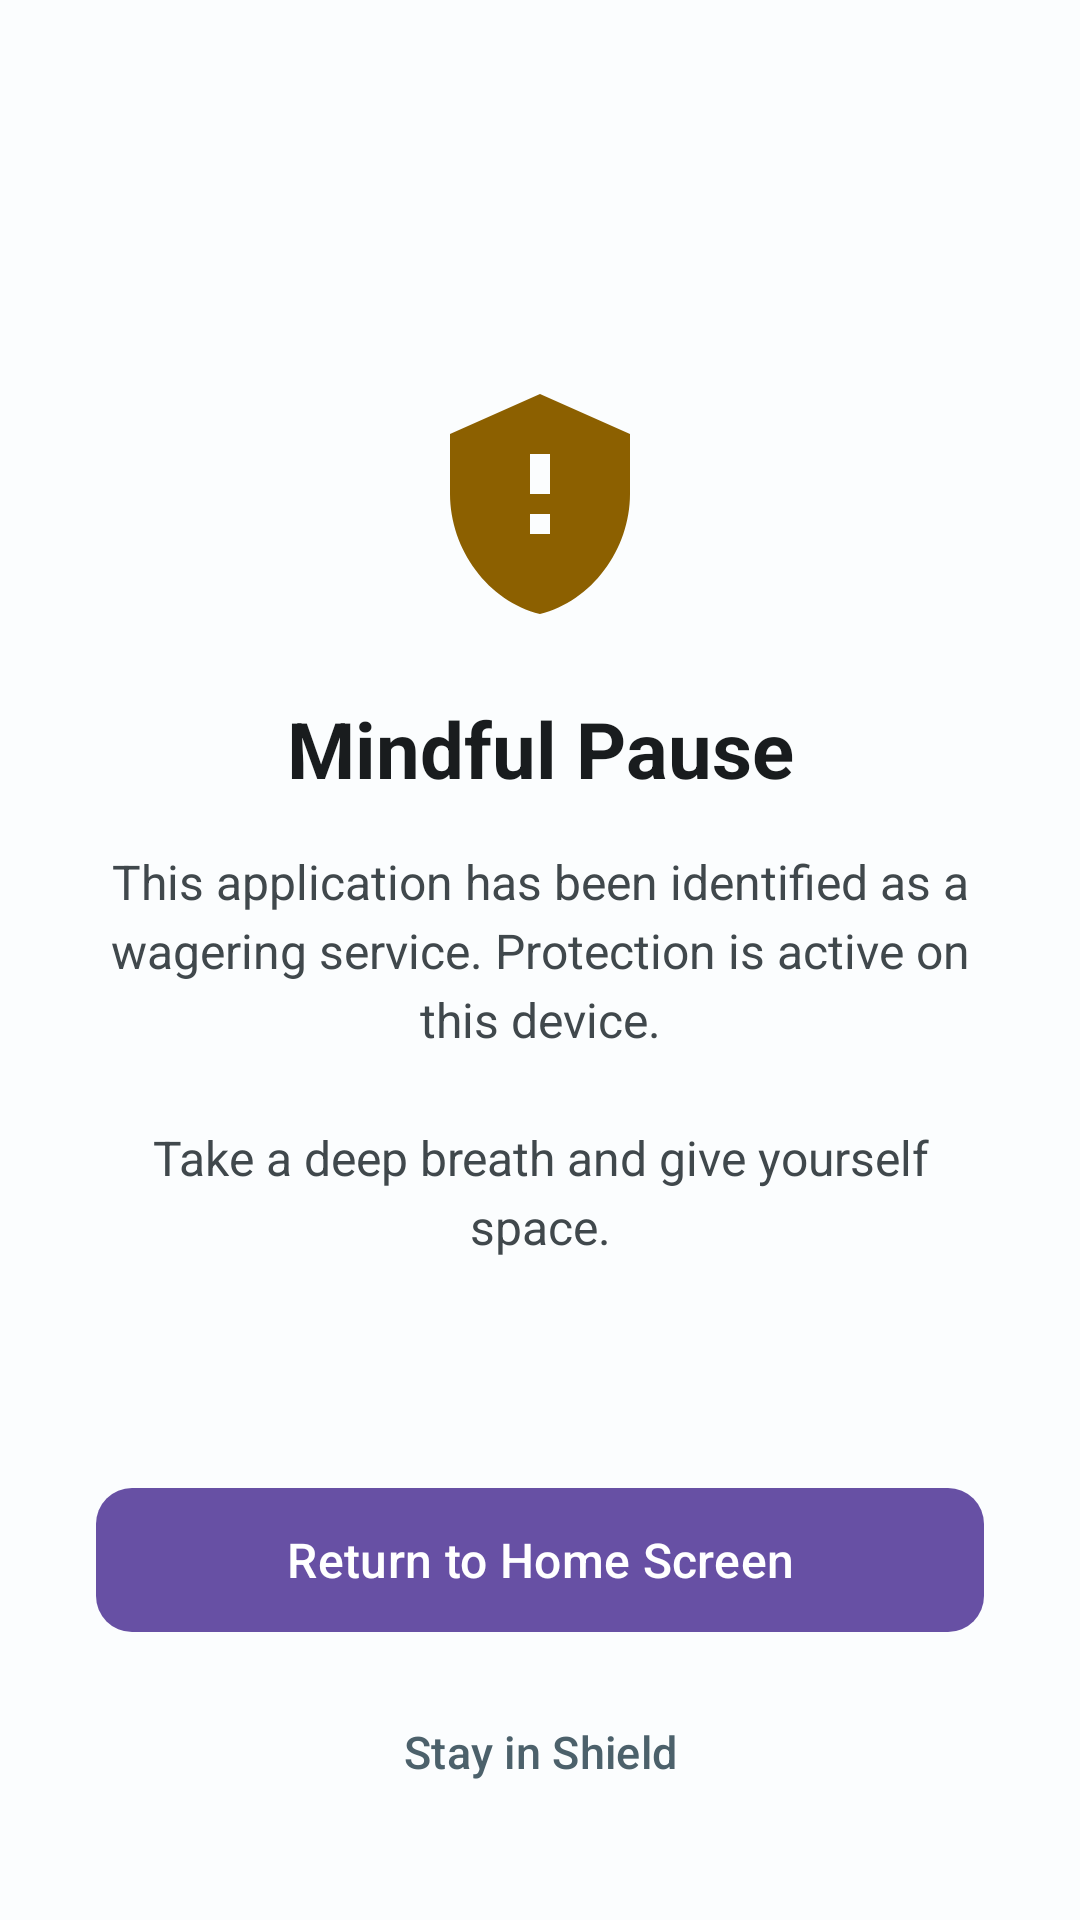

Where to tap for icons on this 1080*1920 app screen, as (x,y):
shield alert: (540,504)
